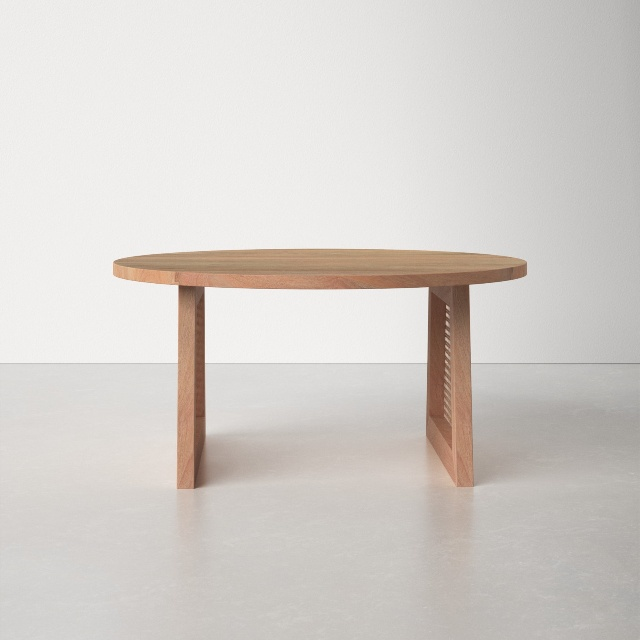obstacle: (113, 249, 526, 488)
